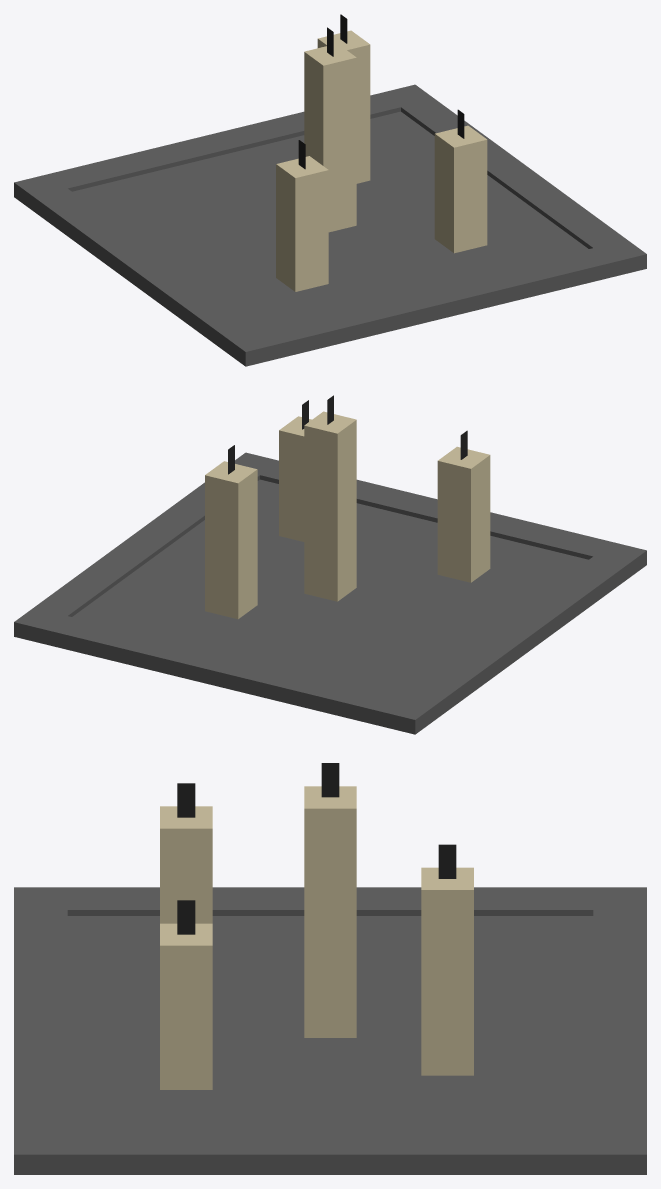
Rendered from candles.fbx.
The picture shows the model from 3 angles, top to bottom: view 1: azimuth 30°, elevation 25°; view 2: azimuth 150°, elevation 25°; view 3: azimuth 270°, elevation 25°; orthographic projection. The views are drawn at different scales.
Visible parts, largest first — view 1: candles; view 2: candles; view 3: candles.
Part boxes in pixels (x1,y1,x2,y2): candles: [14, 14, 646, 366]; candles: [14, 395, 646, 734]; candles: [14, 763, 646, 1174].
Size of the model in its own units: 100 by 48.41 by 100.
